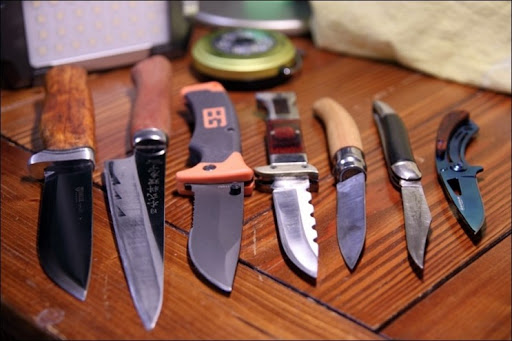knife: (103, 52, 173, 337), (181, 80, 254, 296), (28, 65, 94, 298), (258, 90, 321, 281), (370, 101, 434, 271), (315, 95, 371, 272), (436, 108, 488, 234)
